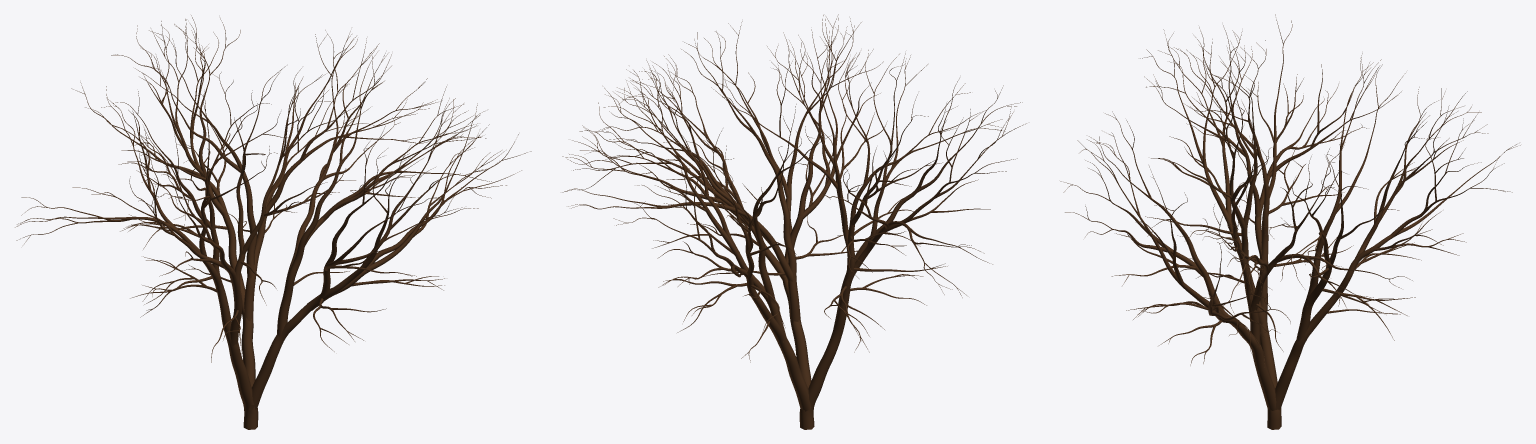
File: tree.glb
3 views of the same model, side by side, from view 1: azimuth 30°, elevation 25°; view 2: azimuth 150°, elevation 25°; view 3: azimuth 270°, elevation 25° (orthographic).
Visible parts, largest first — view 1: tree; view 2: tree; view 3: tree.
Part boxes in pixels (left/top/right/bottom): tree: left=15, top=15, right=531, bottom=429; tree: left=562, top=14, right=1026, bottom=429; tree: left=1060, top=14, right=1520, bottom=429.
Size of the model in its own units: 16.1 by 12.54 by 14.23.
